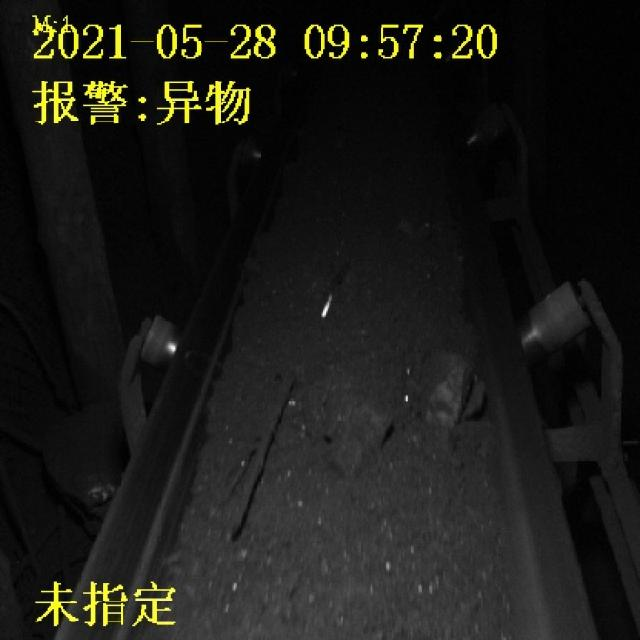bolt: (230, 240, 352, 554)
large_sized_coal: (420, 346, 488, 423), (326, 405, 392, 477)
